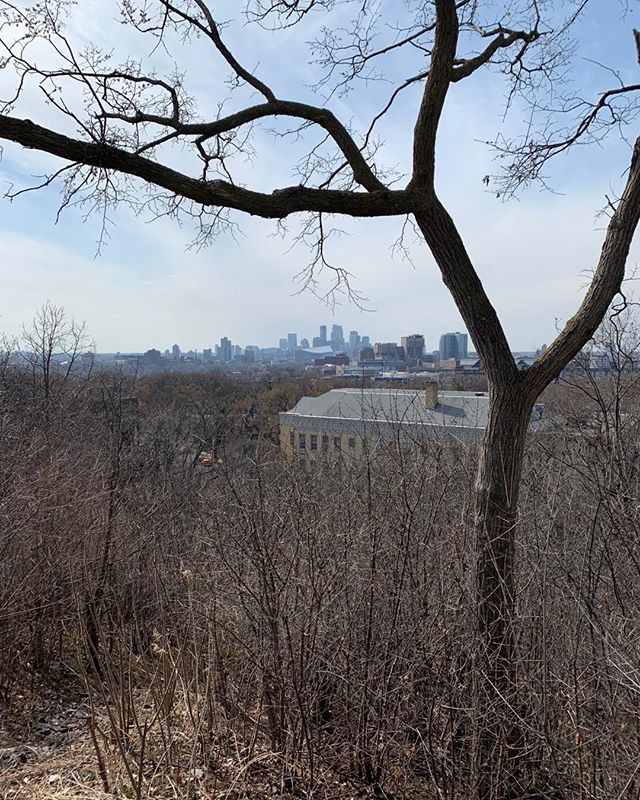building: (277, 387, 640, 511)
sky: (1, 4, 640, 361)
tree: (28, 1, 640, 750)
vegetation: (15, 396, 608, 800)
